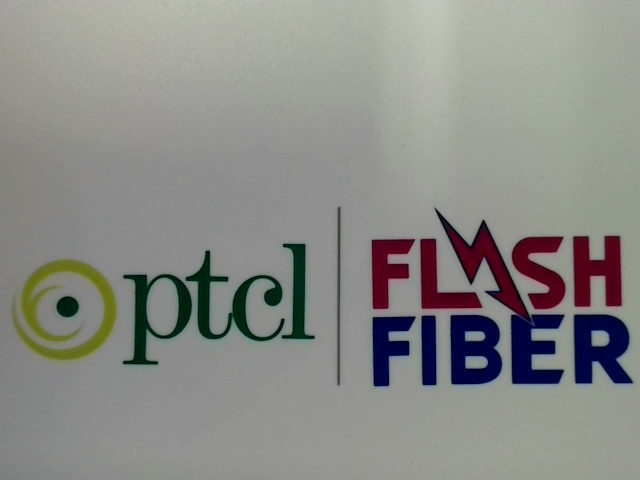BF_PTCL: (4, 229, 323, 368)
